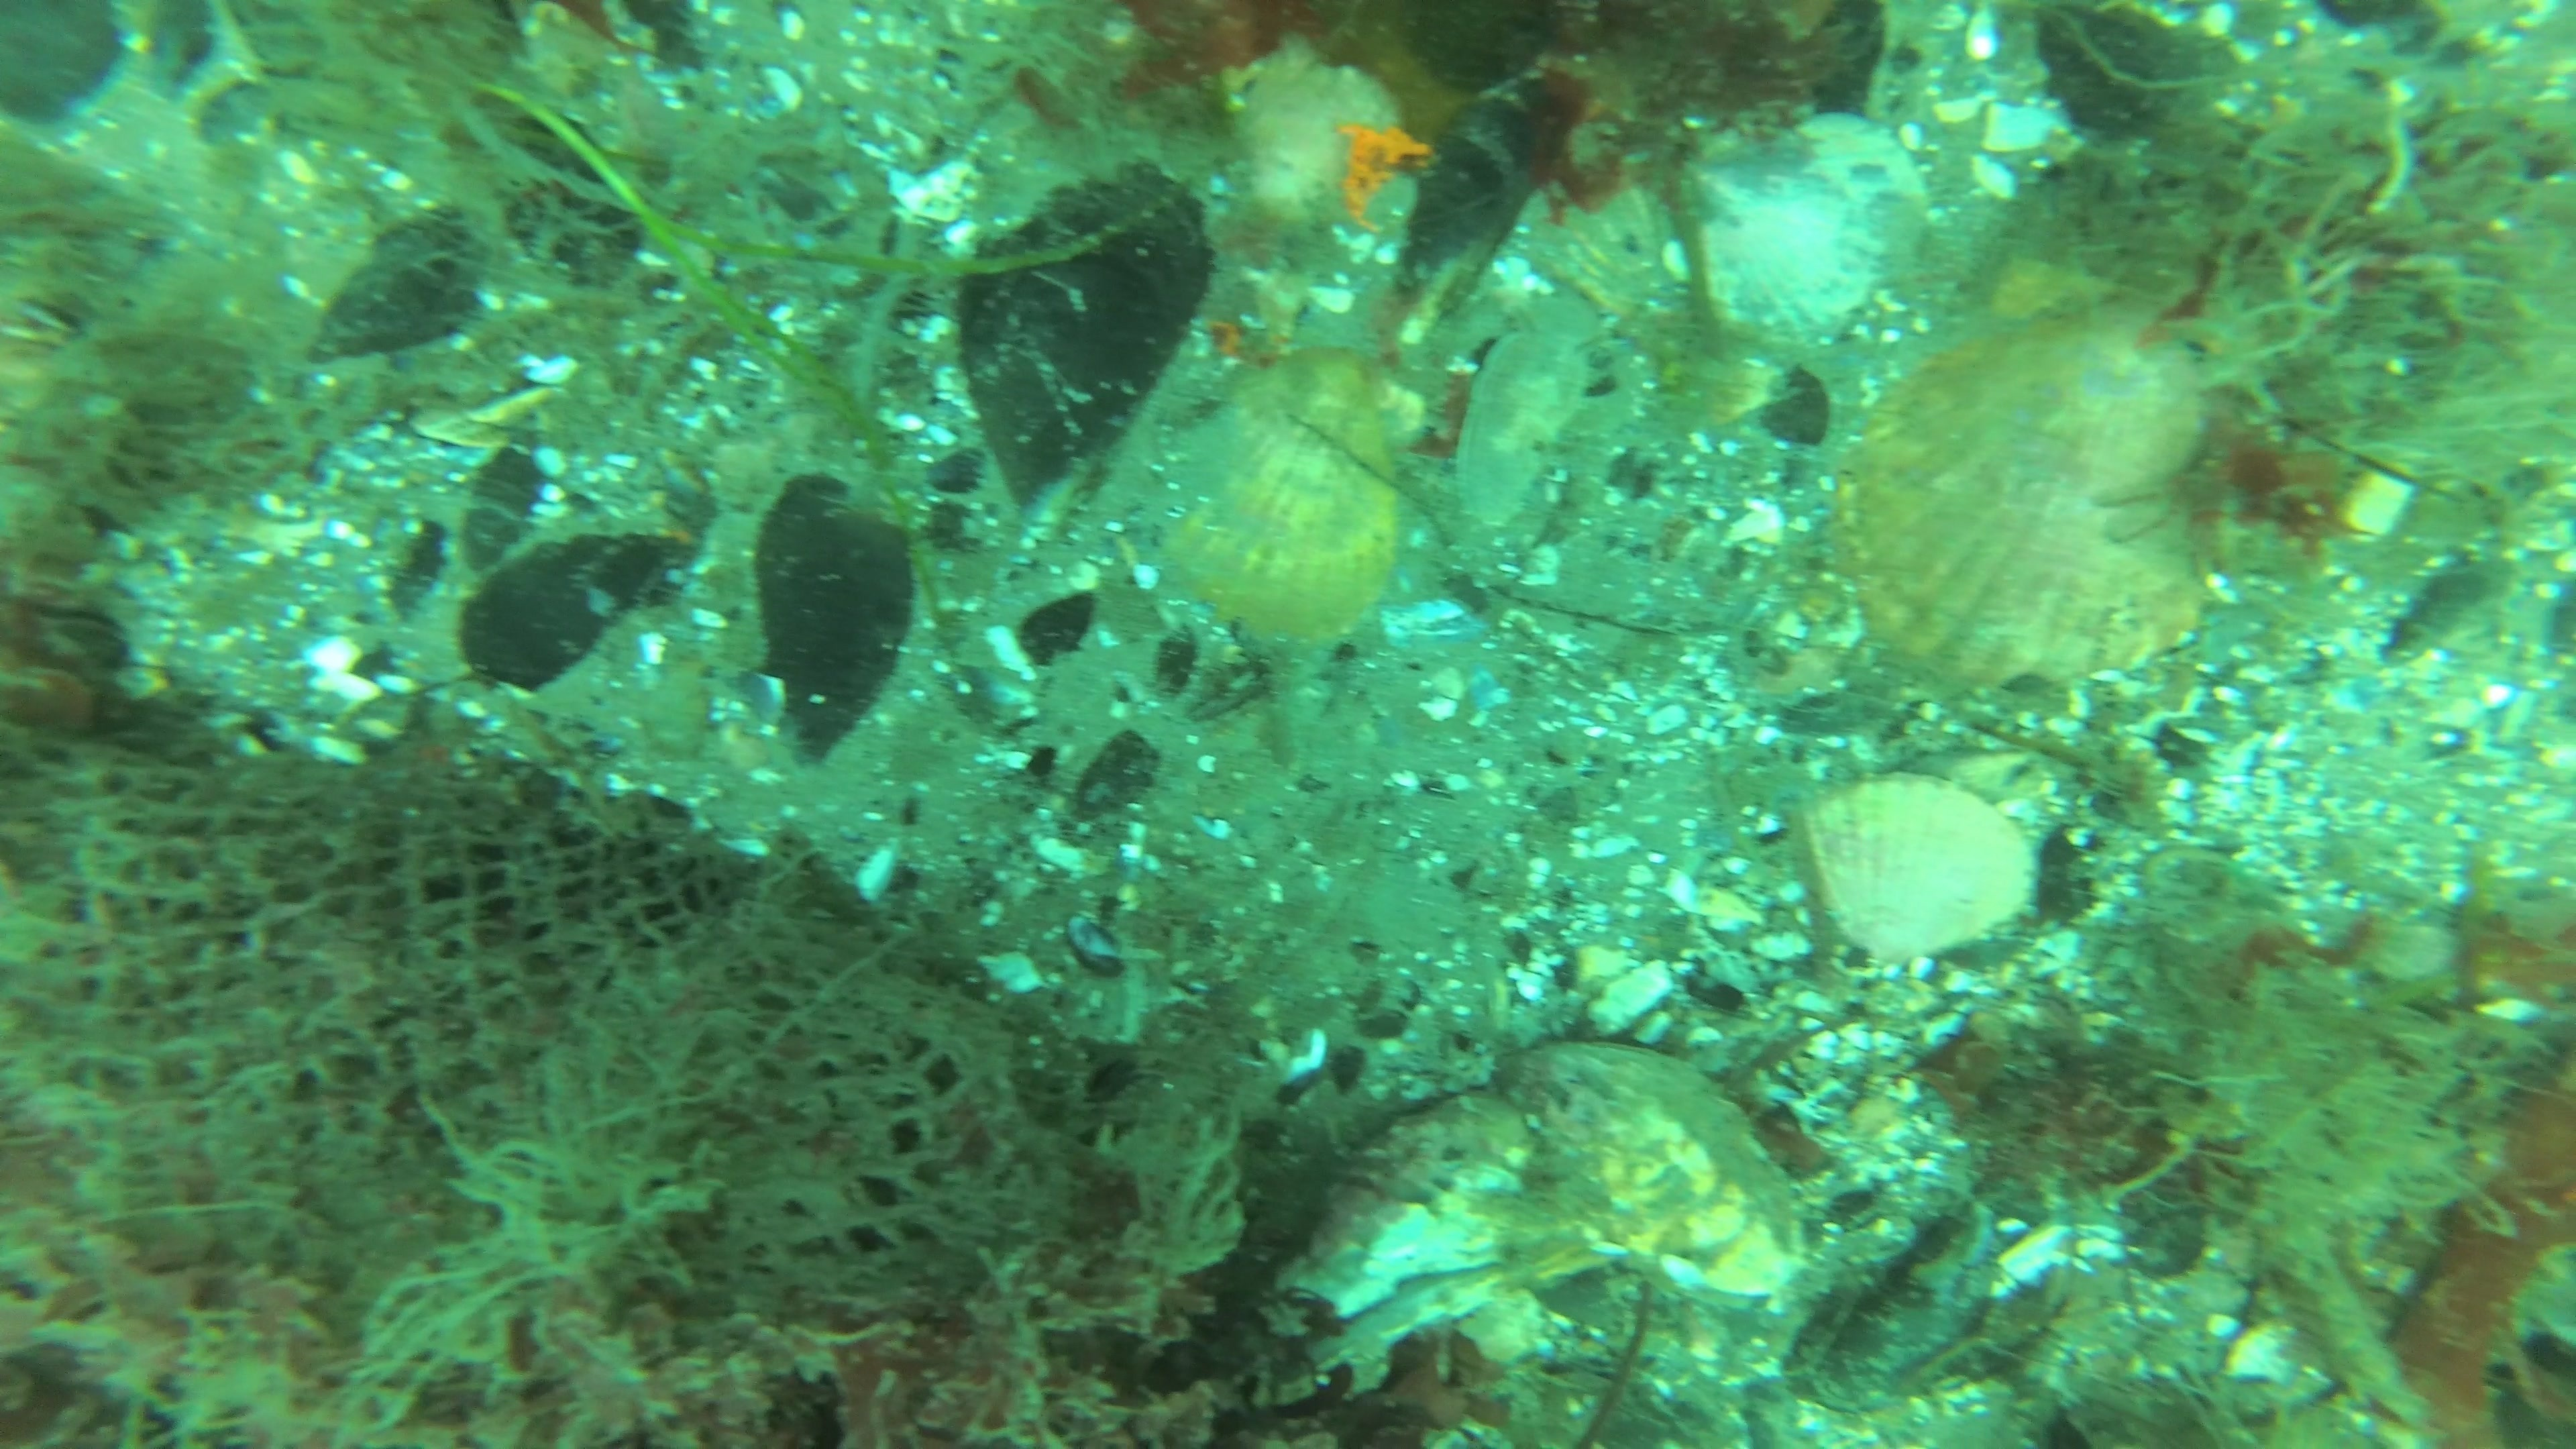scallop: (1819, 306, 2227, 694), (1127, 352, 1442, 662), (1674, 104, 1948, 359), (1796, 768, 2045, 973)
